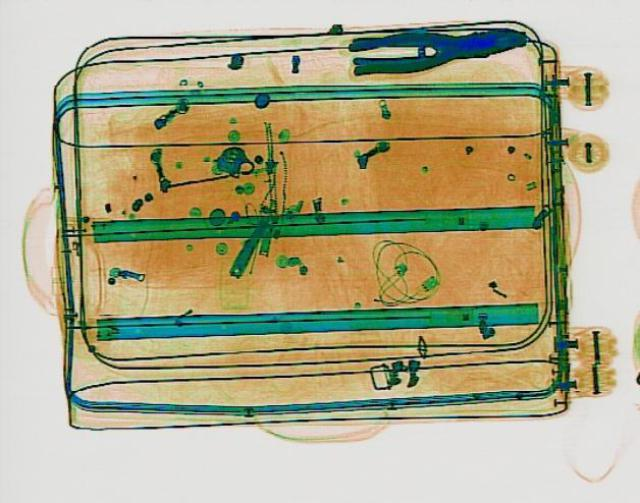Pliers: (347, 16, 529, 76)
